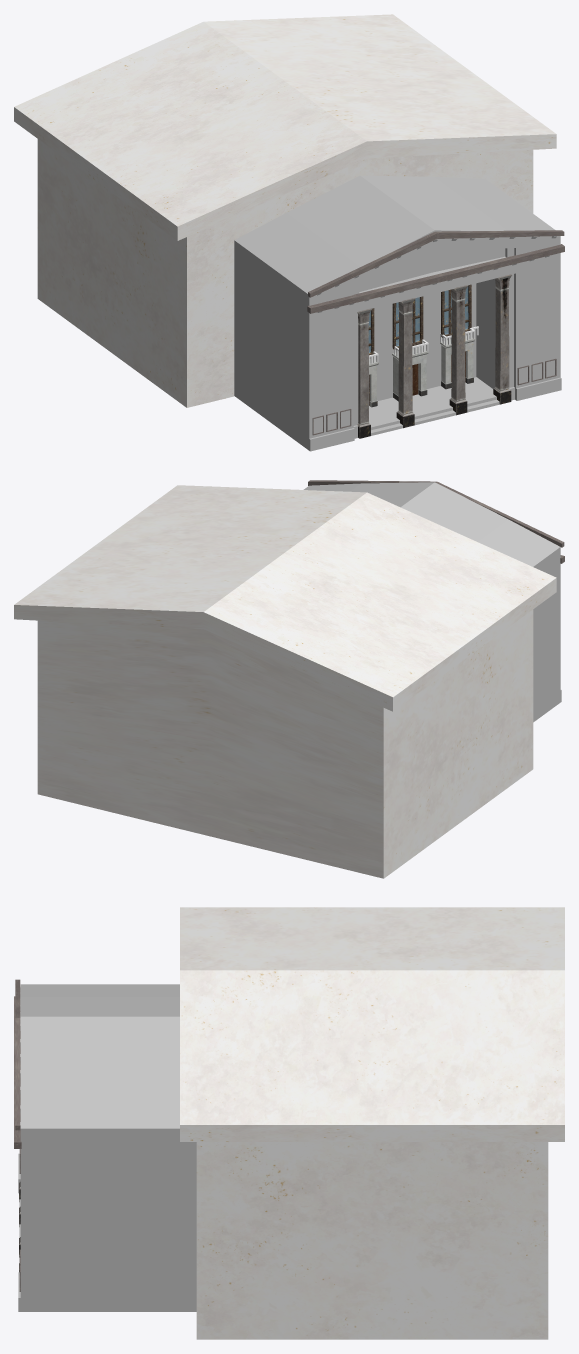
The model's file is tiatur1.fbx.
3 renders of one model, top to bottom at view 1: azimuth 30°, elevation 25°; view 2: azimuth 150°, elevation 25°; view 3: azimuth 270°, elevation 25°, orthographic. The views are drawn at different scales.
Parts seen in each view (by area): view 1: Cube.033, Cube.037, Cube.034, Plane.002, Cube.035, Cube.038, Plane.004, Cube.039, Torus.001, Torus.003, Cube.041, Cube.036; view 2: Cube.033, Cube.037, Cube.039; view 3: Cube.033, Cube.037, Cube.039.
Boxes of the visible parts, x1,y1,x2,y2 form: Cube.033: (14,14,556,407); Cube.037: (234,175,561,451); Cube.034: (357,274,512,438); Plane.002: (369,278,495,400); Cube.035: (369,377,499,435); Cube.038: (307,244,564,313); Plane.004: (369,335,475,407); Cube.039: (308,230,564,297); Torus.001: (368,284,471,355); Torus.003: (368,286,468,353); Cube.041: (312,358,556,435); Cube.036: (369,326,478,364); Cube.033: (14,485,556,878); Cube.037: (303,482,561,722); Cube.039: (308,480,564,547); Cube.033: (180,907,564,1339); Cube.037: (18,984,196,1311); Cube.039: (15,979,20,1130).
Size of the model in its own units: 4362 by 2524 by 4667.
